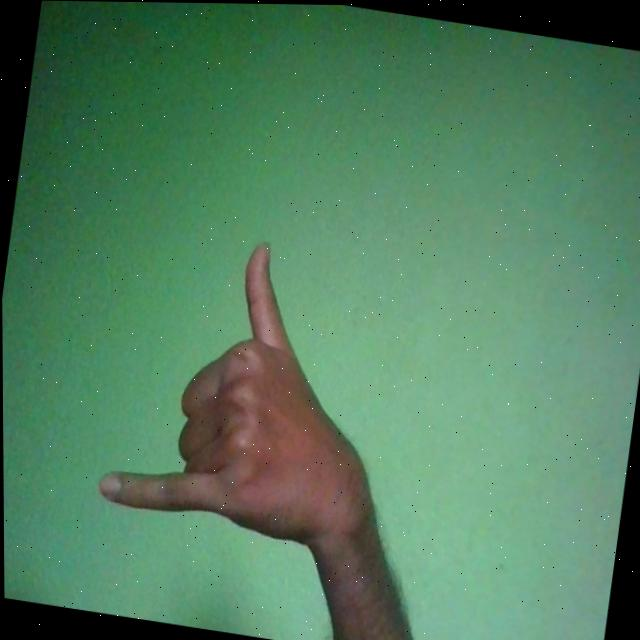Call Me: (89, 218, 416, 558)
